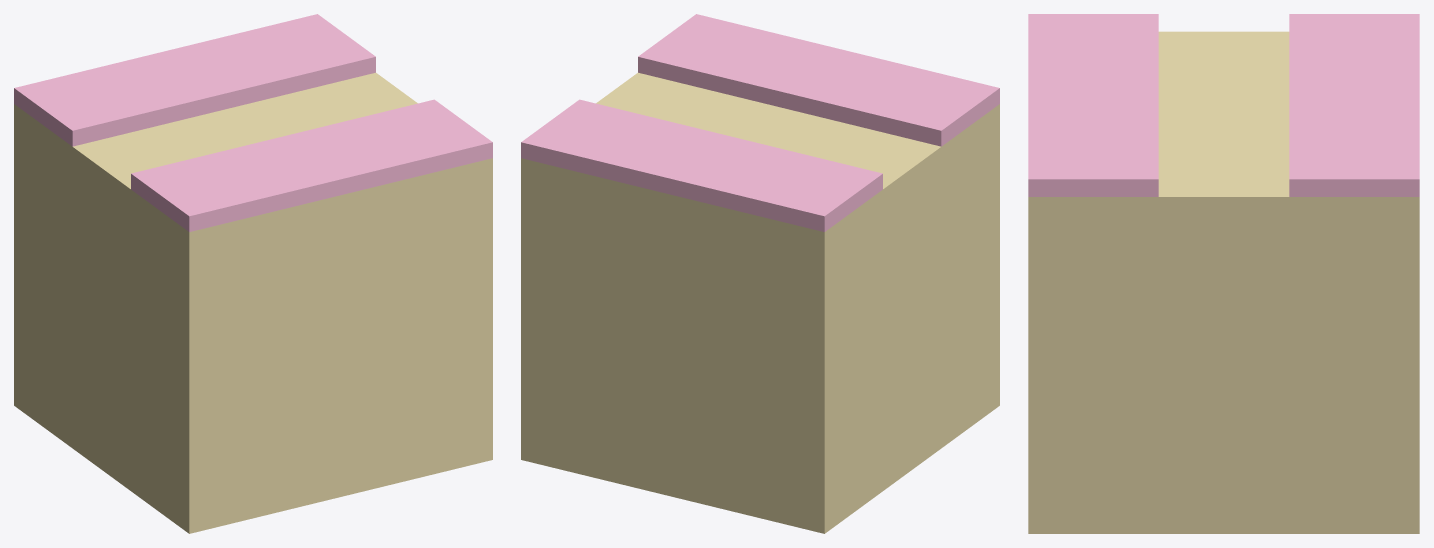
The model's file is CandylandStraightCube.fbx.
The picture shows the model from 3 angles, left to right: view 1: azimuth 30°, elevation 25°; view 2: azimuth 150°, elevation 25°; view 3: azimuth 270°, elevation 25°; orthographic projection. The views are drawn at different scales.
Visible parts, largest first — view 1: CandylandStraightCube; view 2: CandylandStraightCube; view 3: CandylandStraightCube.
Boxes of the visible parts, x1=… form: CandylandStraightCube: x1=14, y1=14, x2=492, y2=533; CandylandStraightCube: x1=521, y1=14, x2=999, y2=533; CandylandStraightCube: x1=1028, y1=14, x2=1419, y2=533.
Bounding box in the file's own units: 1 × 1 × 1.
